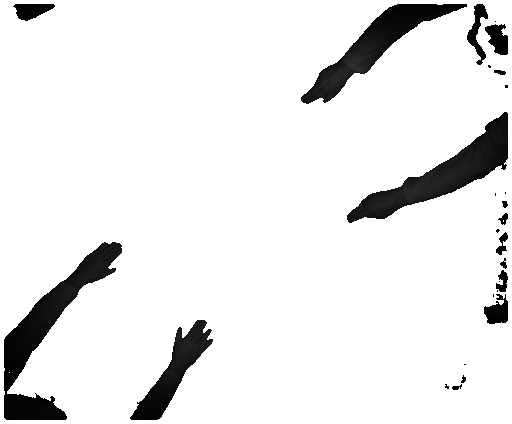hand: (78, 240, 127, 285), (171, 320, 215, 369), (344, 184, 398, 223), (296, 66, 349, 103)
